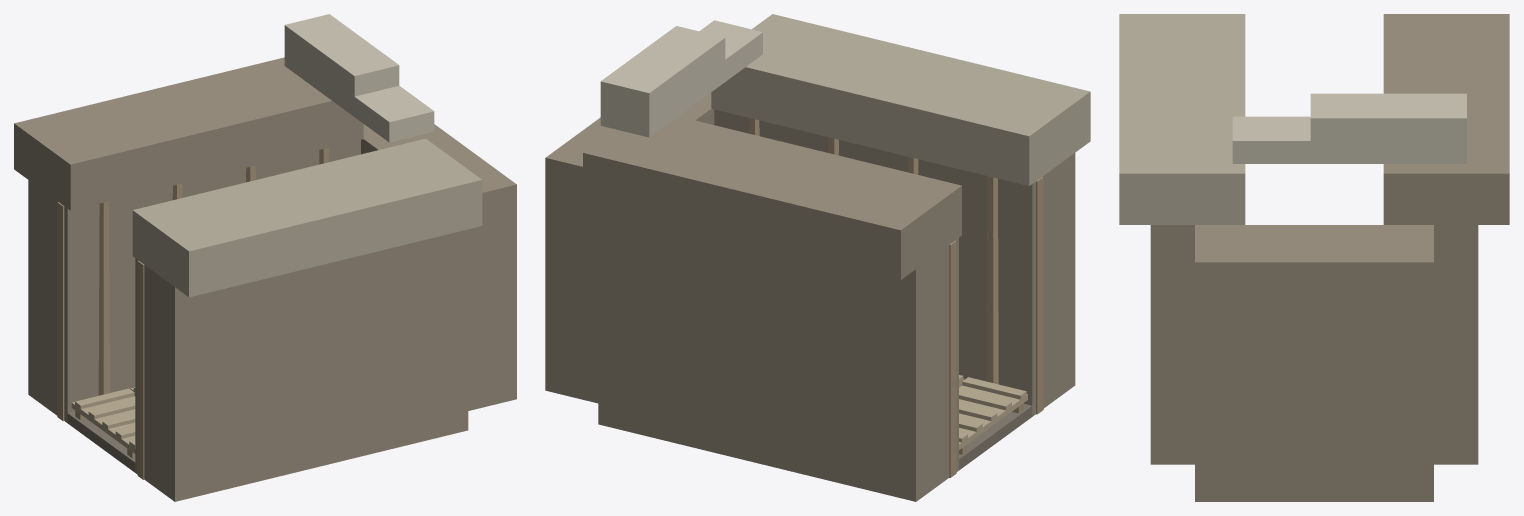
File: trench-line-1917-sap-end-09f8e150__24040.glb
The picture shows the model from 3 angles, left to right: view 1: azimuth 30°, elevation 25°; view 2: azimuth 150°, elevation 25°; view 3: azimuth 270°, elevation 25°; orthographic projection. The views are drawn at different scales.
Parts seen in each view (by area): view 1: sap-end; view 2: sap-end; view 3: sap-end.
Boxes of the visible parts, x1=… form: sap-end: x1=14, y1=14, x2=516, y2=501; sap-end: x1=545, y1=14, x2=1090, y2=501; sap-end: x1=1119, y1=14, x2=1509, y2=501.
Size of the model in its own units: 3.71 by 3.05 by 3.1.
